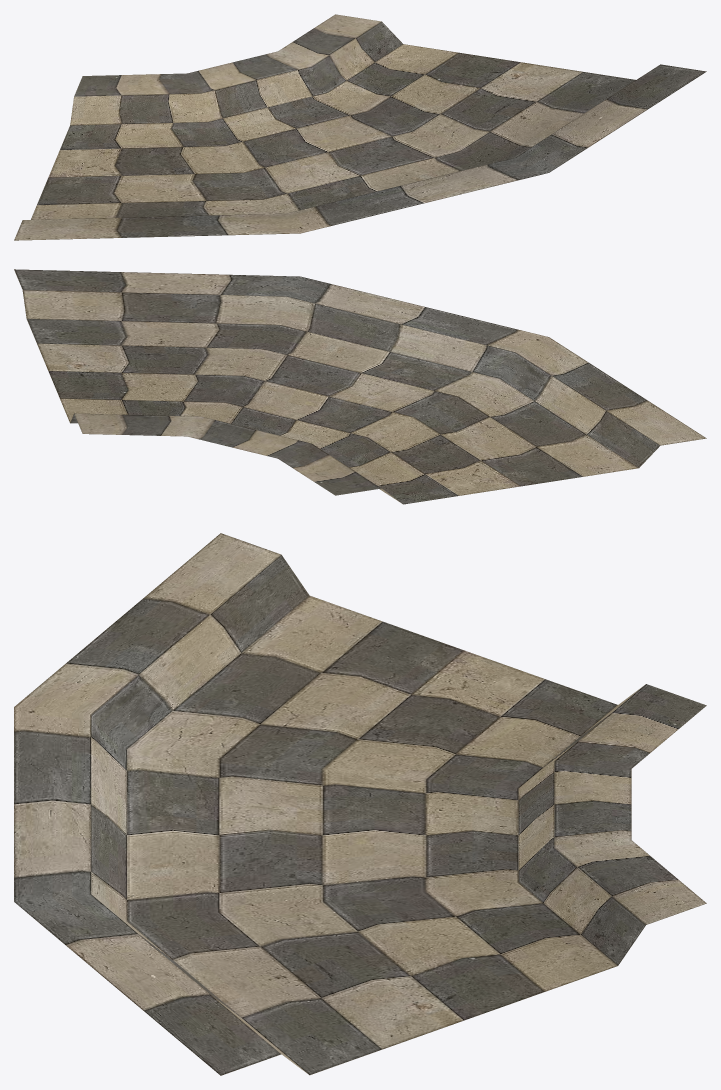
File: bend_floor.fbx
The picture shows the model from 3 angles, top to bottom: view 1: azimuth 30°, elevation 25°; view 2: azimuth 150°, elevation 25°; view 3: azimuth 270°, elevation 25°; orthographic projection. The views are drawn at different scales.
Visible parts, largest first — view 1: pPlane1; view 2: pPlane1; view 3: pPlane1.
Part boxes in pixels (x1=…): pPlane1: x1=14, y1=14, x2=706, y2=240; pPlane1: x1=14, y1=269, x2=706, y2=504; pPlane1: x1=14, y1=533, x2=706, y2=1075.
Size of the model in its own units: 80.96 by 2.15 by 43.68.
